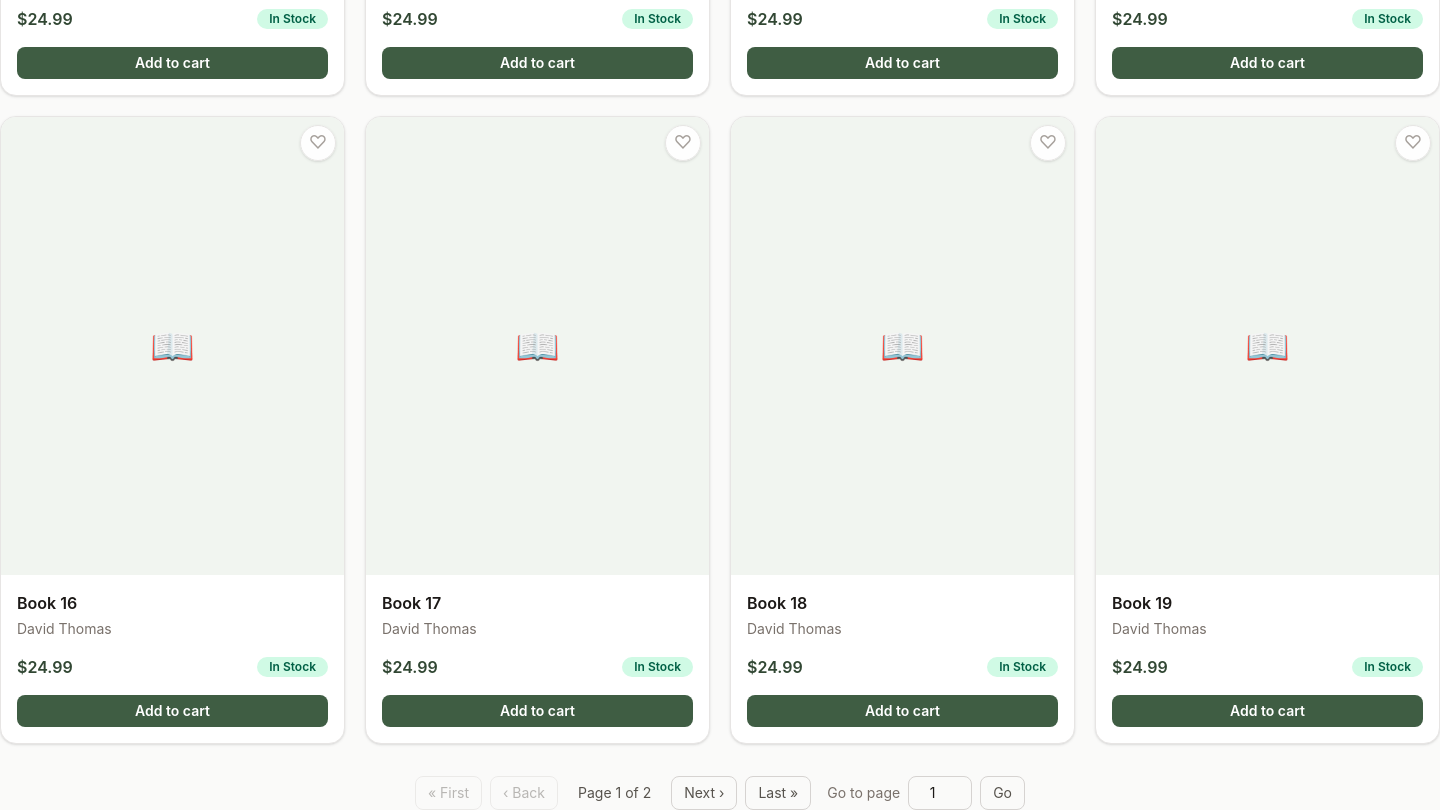
CatalogPage › paginates client-side when the backend hasn't deployed pagination yet (no meta)
This screenshot has width=1440, height=810.
(page scrolled)
Check: the text "Page 1 of 2" is shown, box x1=578 y1=784 x2=651 y2=801
Check: the text "Book 20" is not shown
What coordinates should you click on to do the following:
click the button with aria-label "Next page"
I would click on:
 (704, 793)
Its box is x1=671 y1=776 x2=737 y2=809.
(page scrolled)
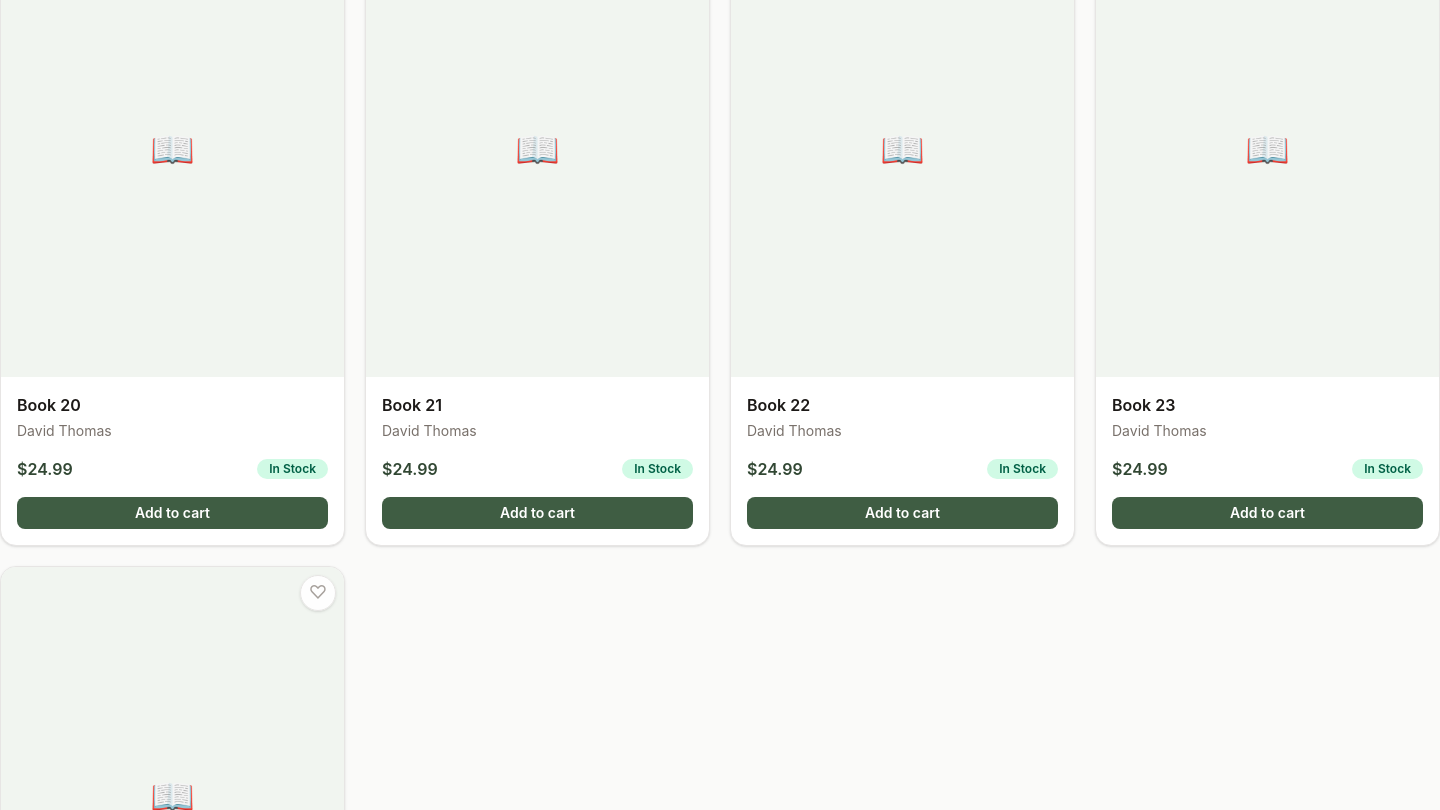
Check: the text "Book 20" is shown, box x1=17 y1=395 x2=81 y2=415
